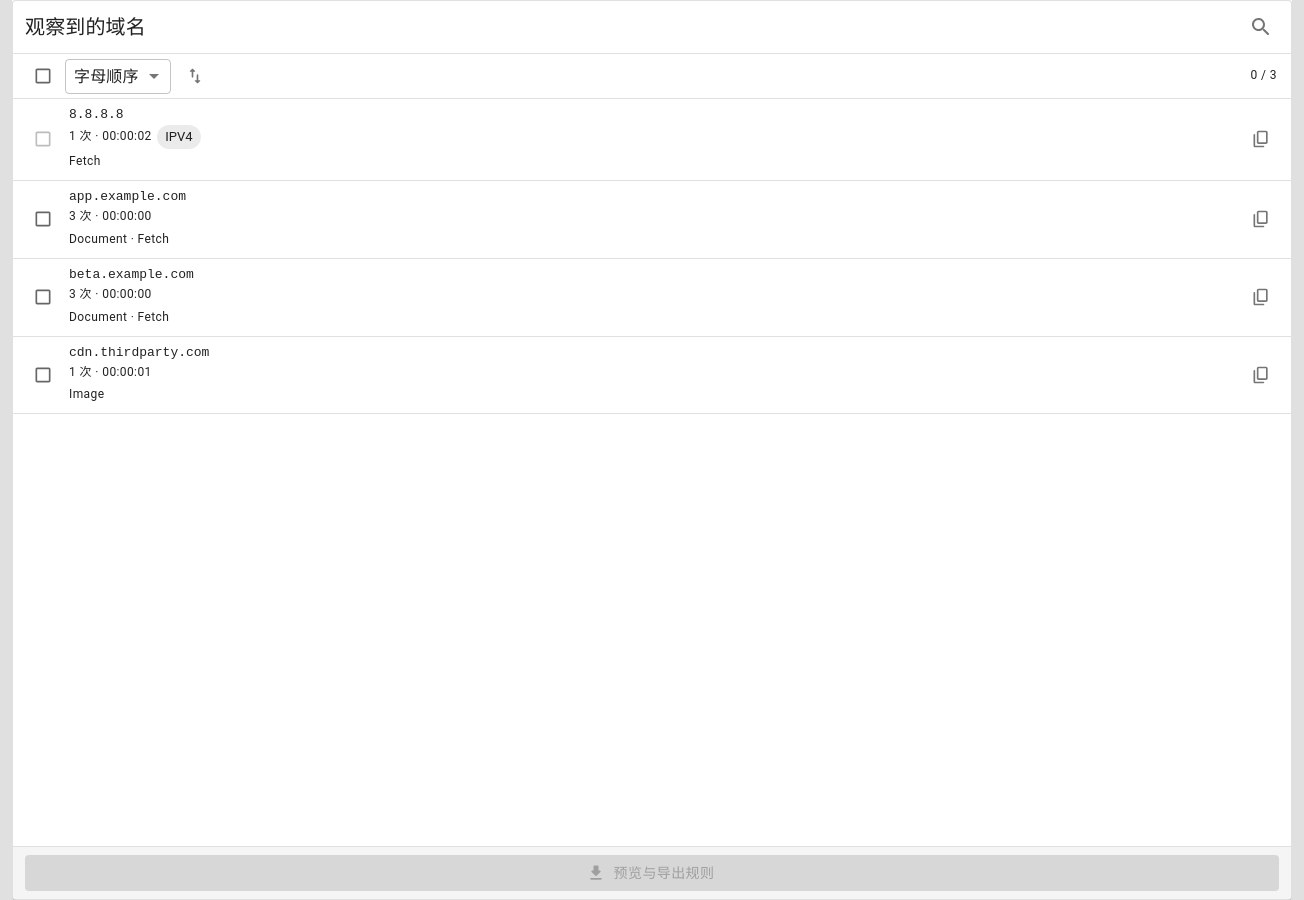
Scenario: 观察域名面板 › Ctrl 切换单行，Shift 按当前顺序选中范围，页头切换全选
Step 1. Click the button "cdn.thirdparty.com 1 次 · 00:00:01 Image" → click(139, 352), box [13,336,1291,413]
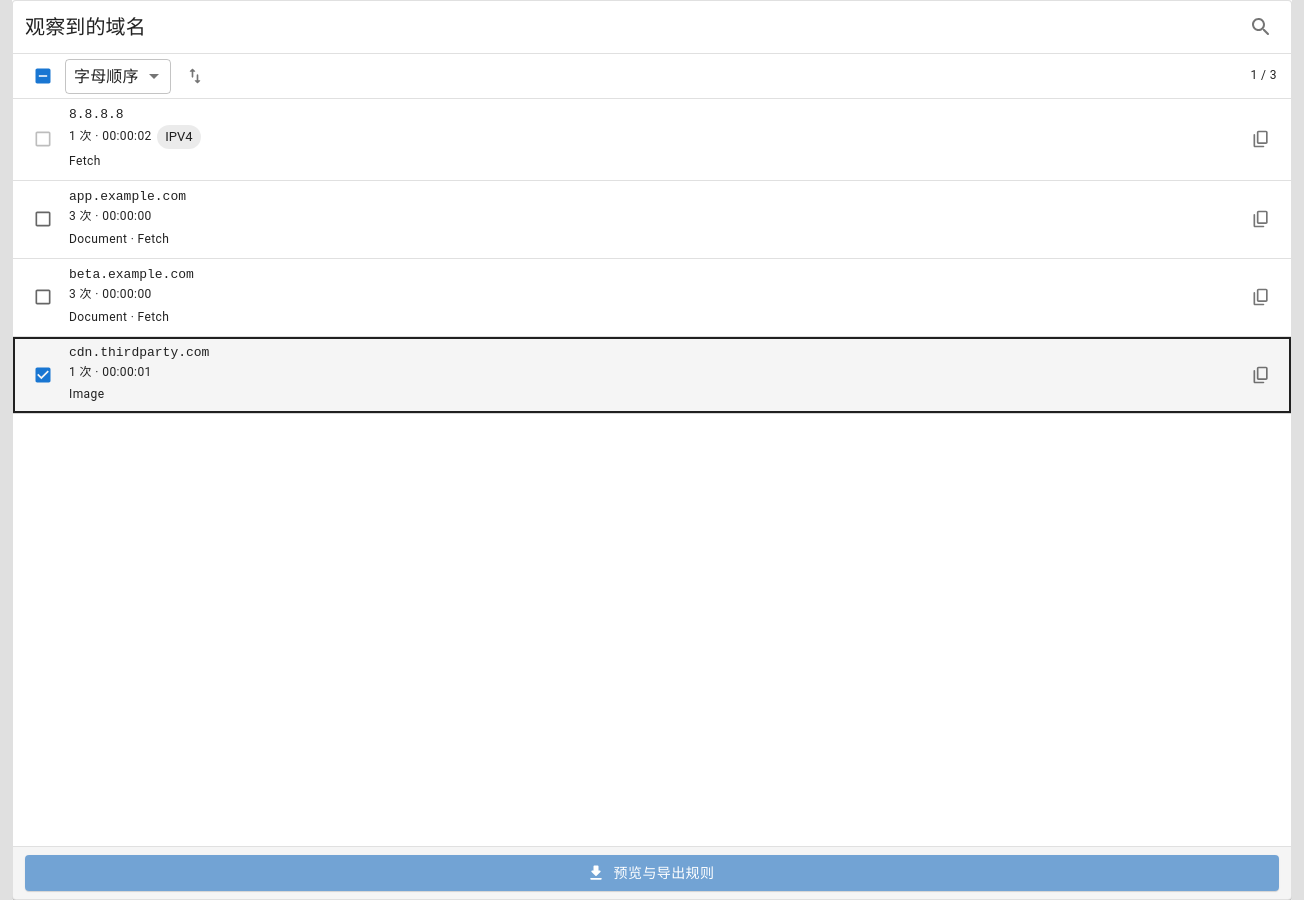
Expected: the checkbox named "选择 cdn.thirdparty.com" is checked, [33,365,53,385]
Step 2. Click the checkbox named "选择 app.example.com" → click(43, 219), box [33,209,53,229]
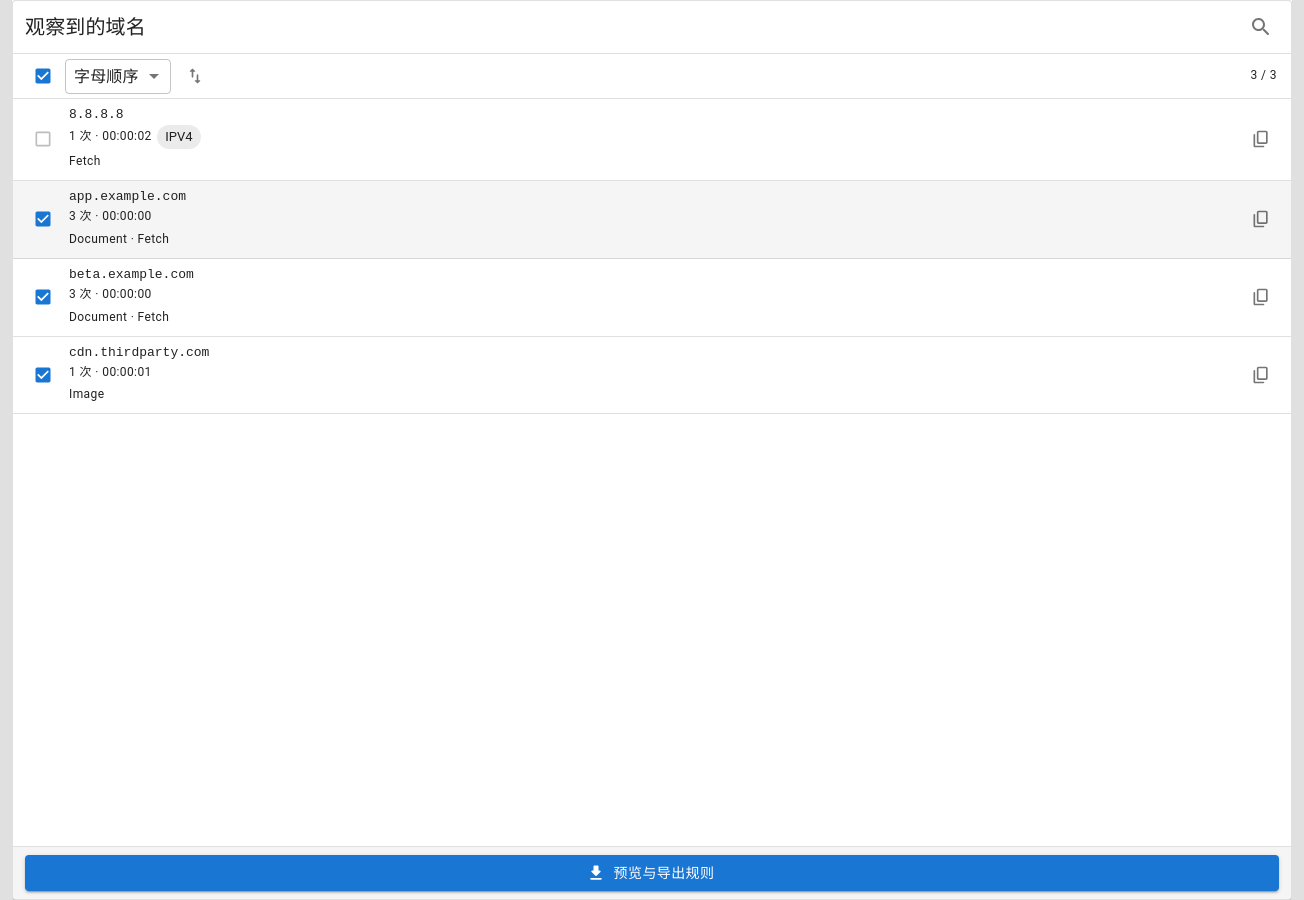
Expected: the checkbox named "全选域名" is checked
Step 3. Click the checkbox named "全选域名" → click(43, 76), box [33,66,53,86]
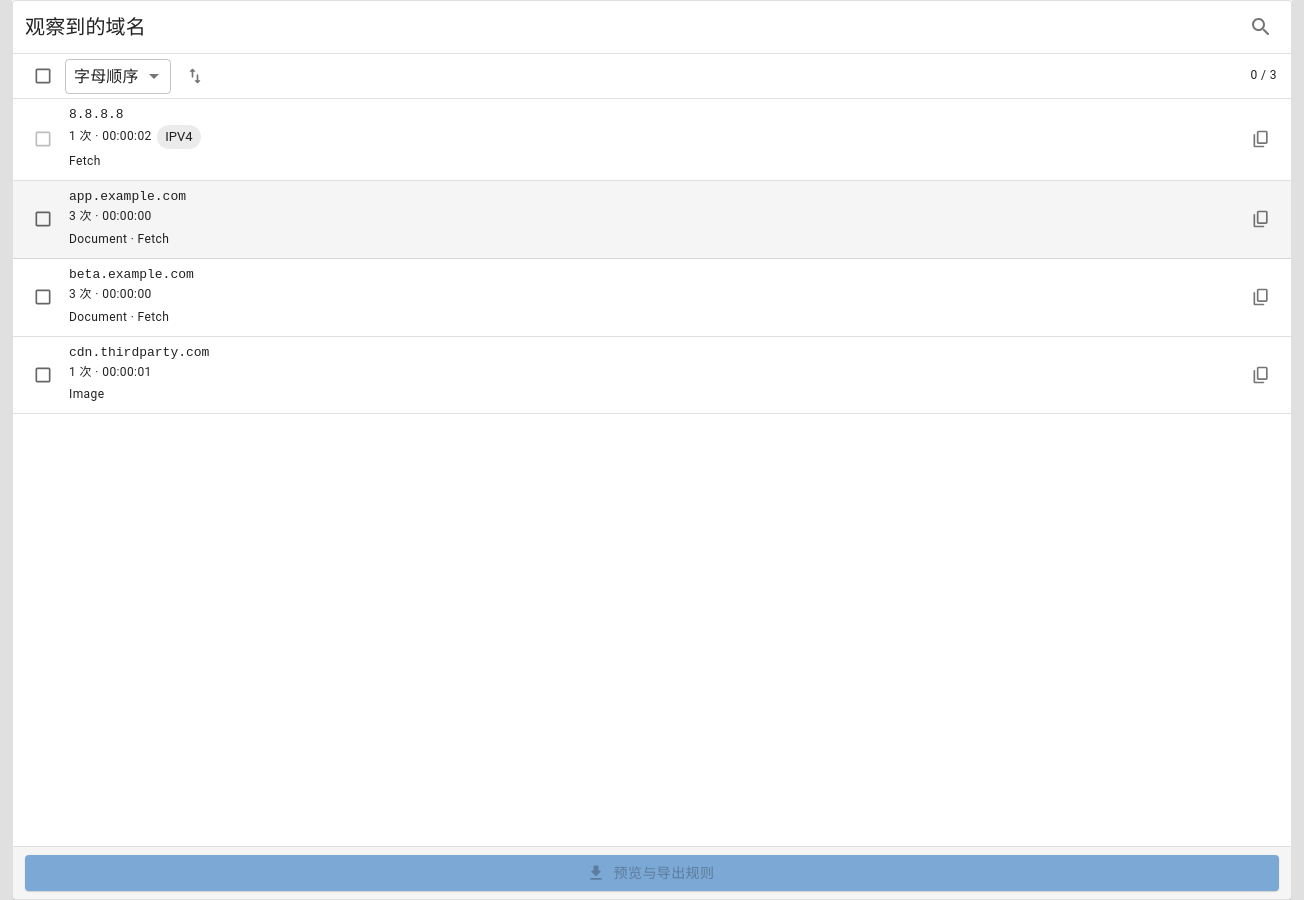
Expected: the text "0 / 3" is shown, [1251,66,1277,86]
Step 4. Click the button named "搜索域名" → click(1261, 27), box [1239,5,1283,49]
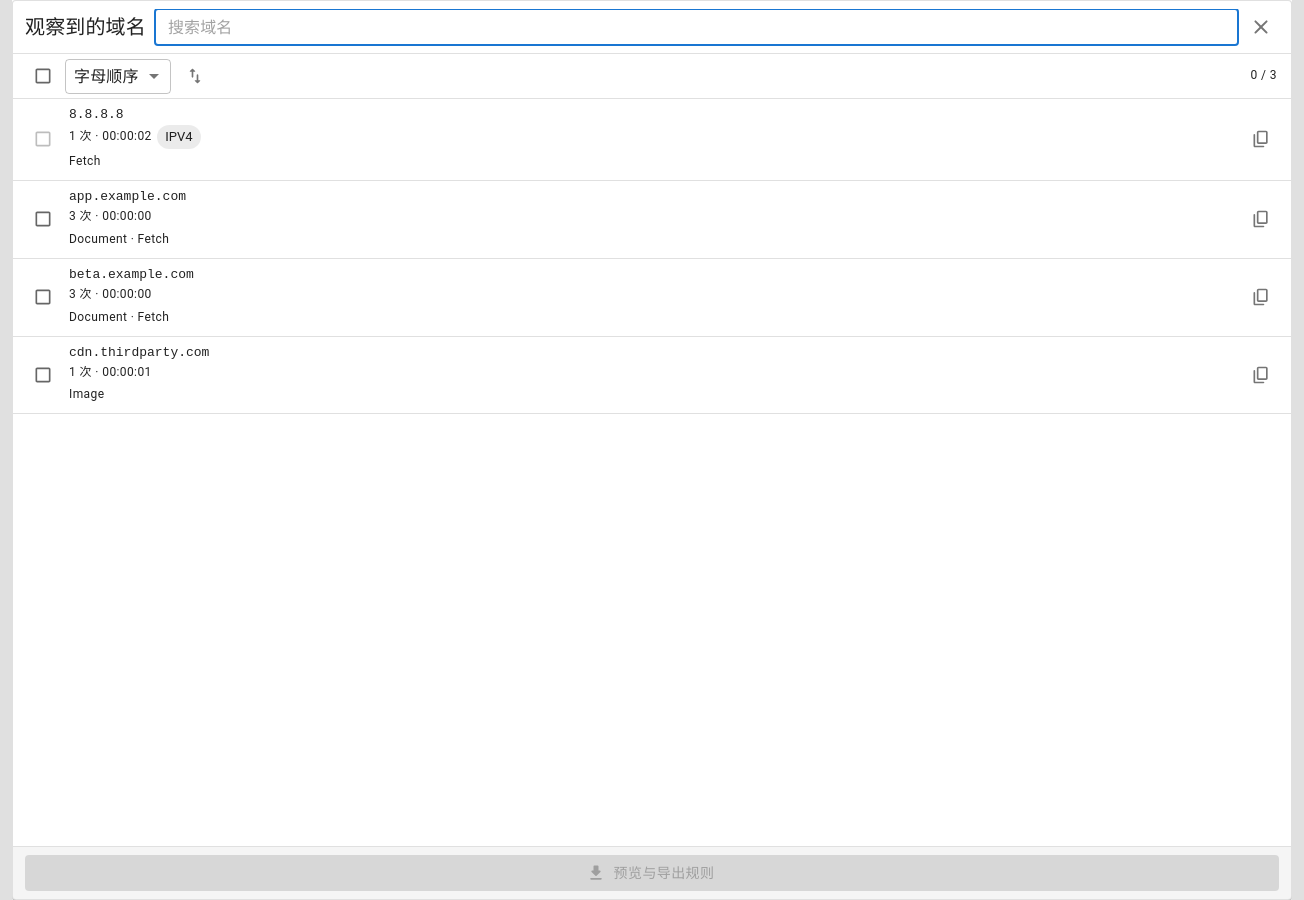
Step 5. Type "cdn" into the field labelled "搜索域名" → (696, 27), box [154,8,1239,46]
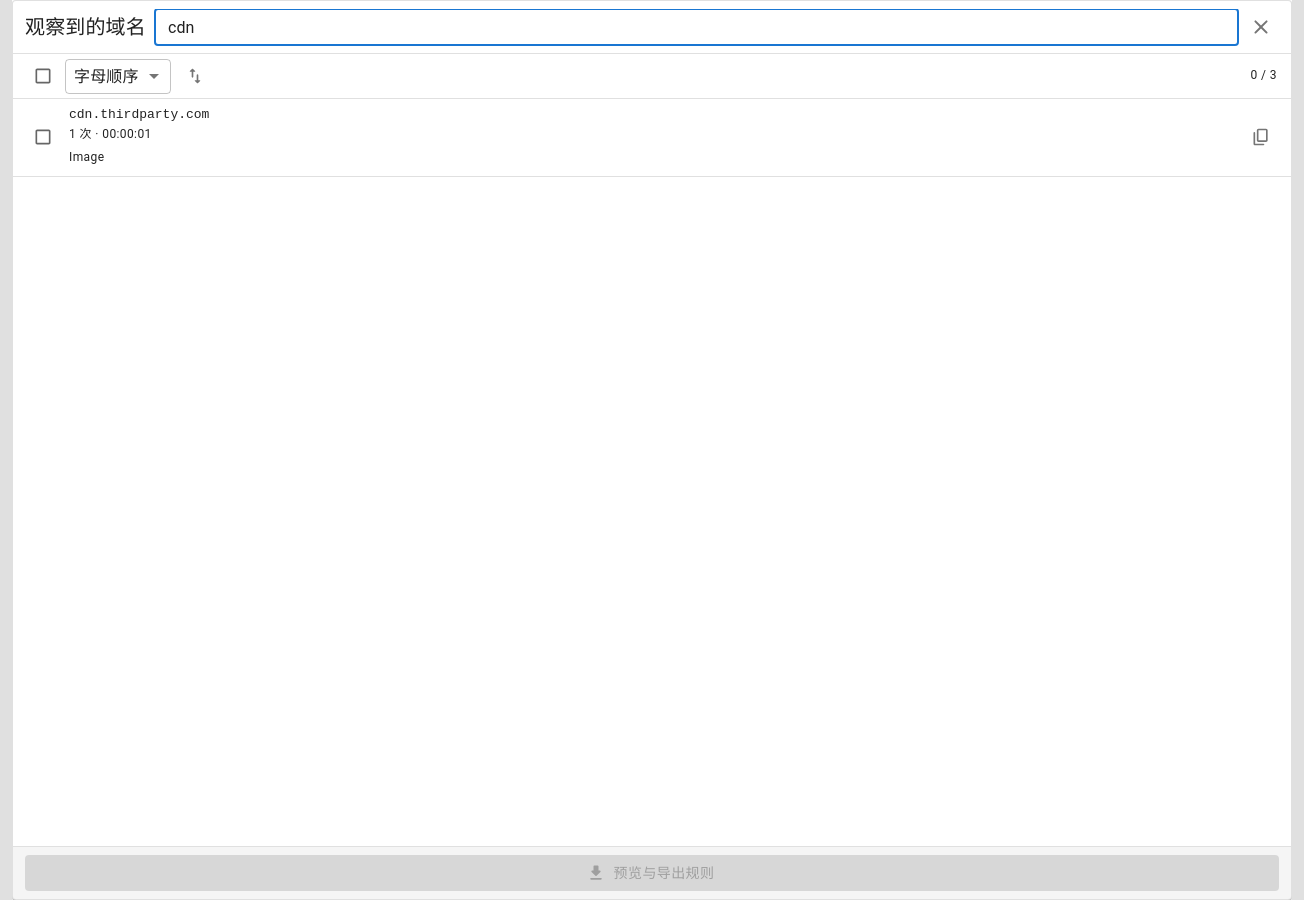
Expected: the button "beta.example.com" is gone
Step 6. Click the checkbox named "全选域名" → click(43, 76), box [33,66,53,86]
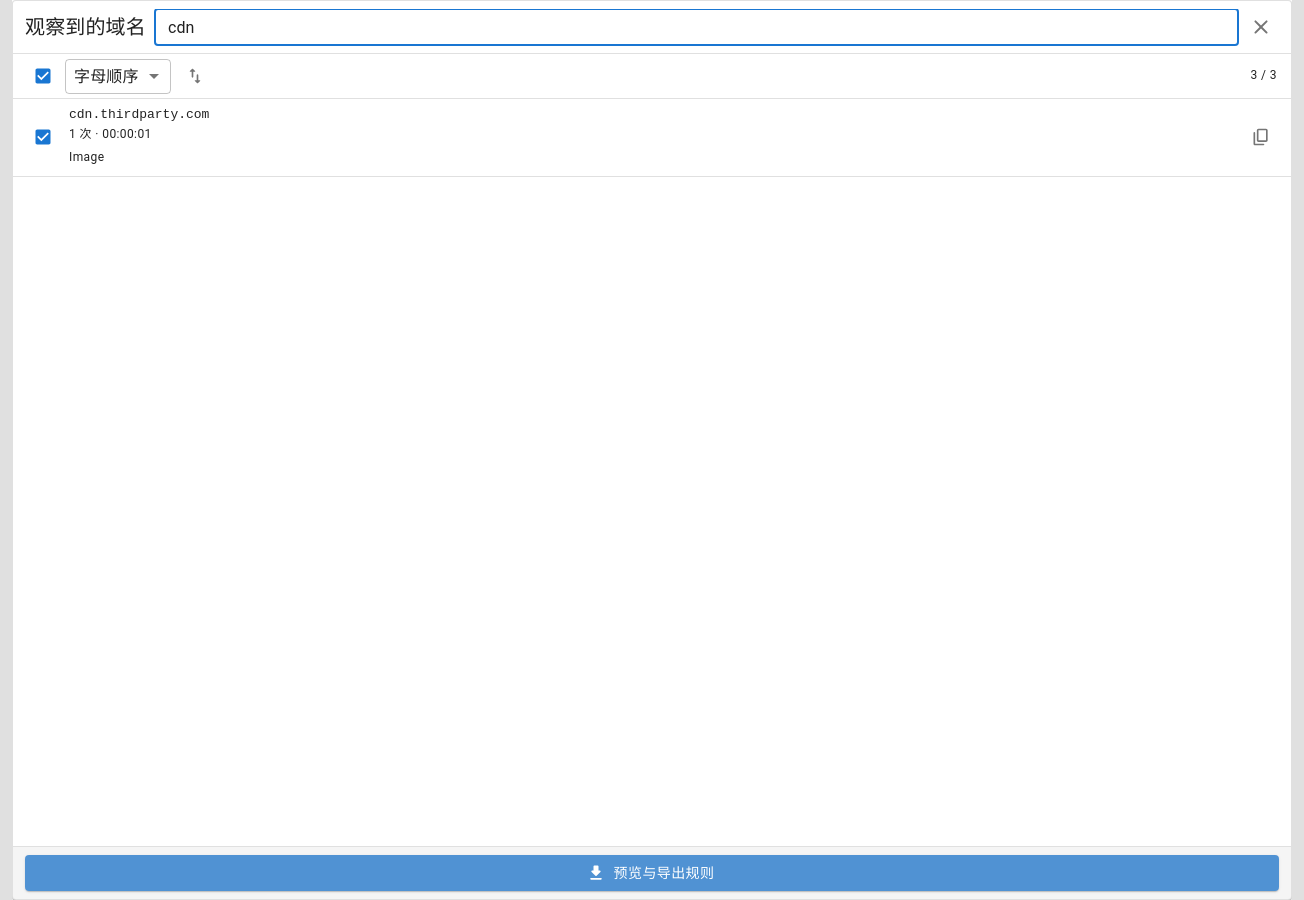
Expected: the text "3 / 3" is shown, [1251,66,1277,86]
